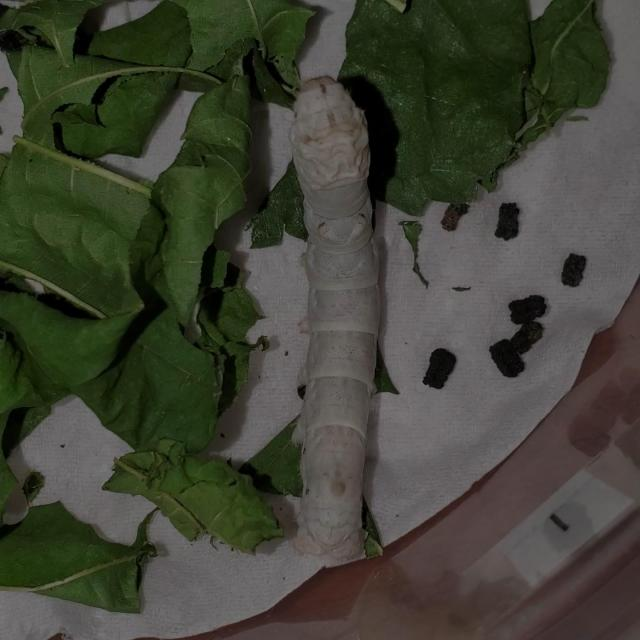Healthy: (240, 51, 431, 580)
